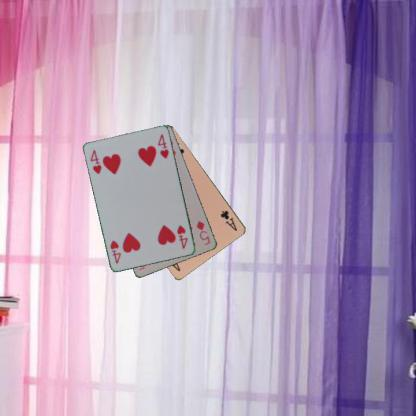4h: (88, 147, 103, 176), (174, 223, 189, 250)
5d: (194, 218, 212, 247)
Ac: (218, 208, 238, 232)
